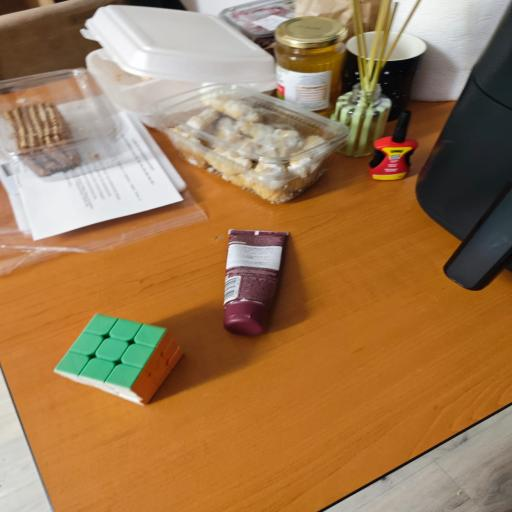Crema Maini: (220, 226, 293, 336)
Rubiks Cube: (52, 313, 186, 408)
Super Glue: (364, 107, 418, 182)
